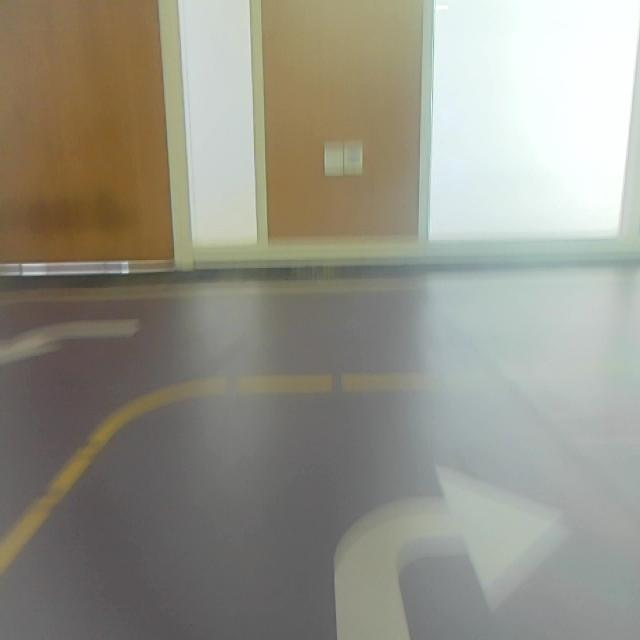left_lane: (0, 412, 127, 584)
